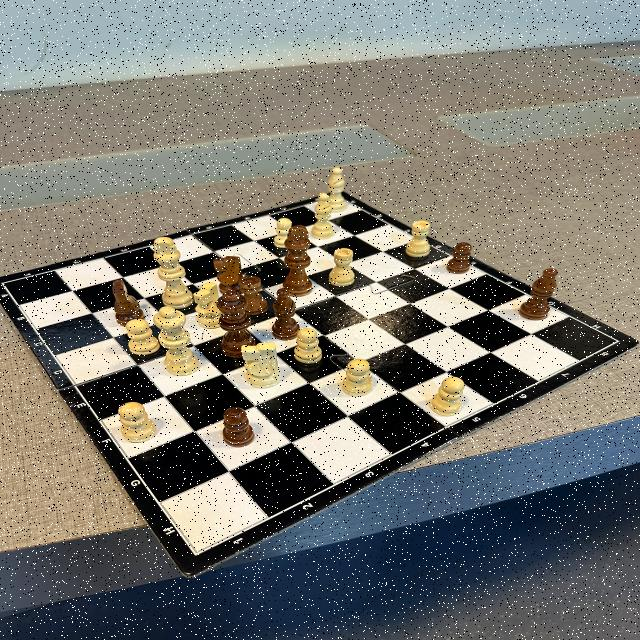Black-Bishop: (518, 268, 558, 320), (272, 288, 300, 340)
Black-King: (282, 225, 312, 297)
Black-Knight: (112, 280, 145, 326), (214, 256, 242, 294)
Black-Pawn: (222, 408, 256, 448), (446, 242, 471, 274)
Black-Queen: (216, 291, 255, 357)
Black-Rook: (240, 275, 268, 315)
White-Bishop: (312, 193, 334, 240), (326, 167, 346, 213)
White-King: (154, 237, 194, 309)
White-Knight: (242, 342, 280, 388), (195, 282, 229, 329)
White-Pawn: (118, 402, 156, 444), (431, 376, 464, 416), (126, 318, 159, 356), (341, 358, 372, 396), (294, 328, 323, 363), (274, 218, 294, 248)
White-Queen: (154, 306, 200, 376)
White-Rook: (328, 248, 354, 286), (406, 220, 430, 258)
